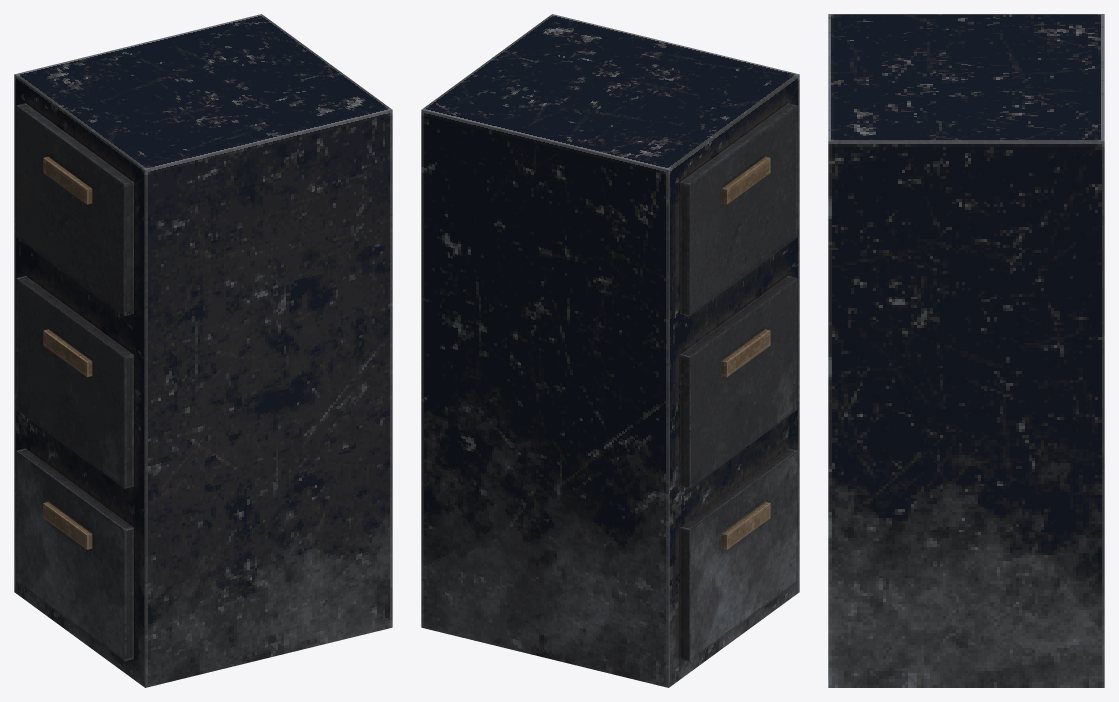
Rendered from filecabinet_sml.glb.
3 views of the same model, side by side, from view 1: azimuth 30°, elevation 25°; view 2: azimuth 150°, elevation 25°; view 3: azimuth 270°, elevation 25° (orthographic). The views are drawn at different scales.
Visible parts, largest first — view 1: filecabinet_small-col; view 2: filecabinet_small-col; view 3: filecabinet_small-col.
Part boxes in pixels (x1,y1,x2,y2): filecabinet_small-col: (14, 14, 392, 687); filecabinet_small-col: (421, 14, 799, 687); filecabinet_small-col: (828, 14, 1104, 687).
Bounding box in the file's own units: 2.05 × 3.87 × 1.77.
Materials: 1 (1 with a texture image).
